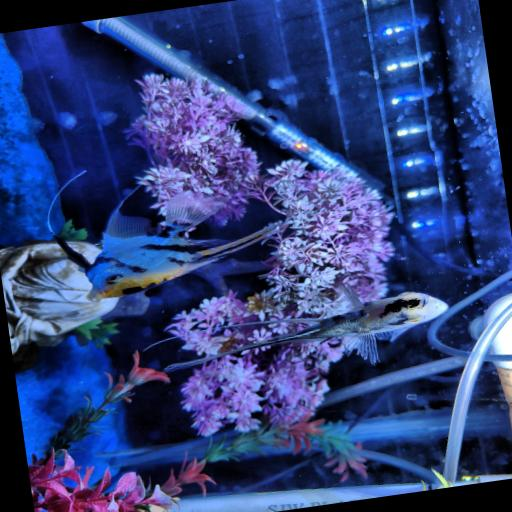Fish: (53, 191, 277, 301), (164, 284, 447, 371)
